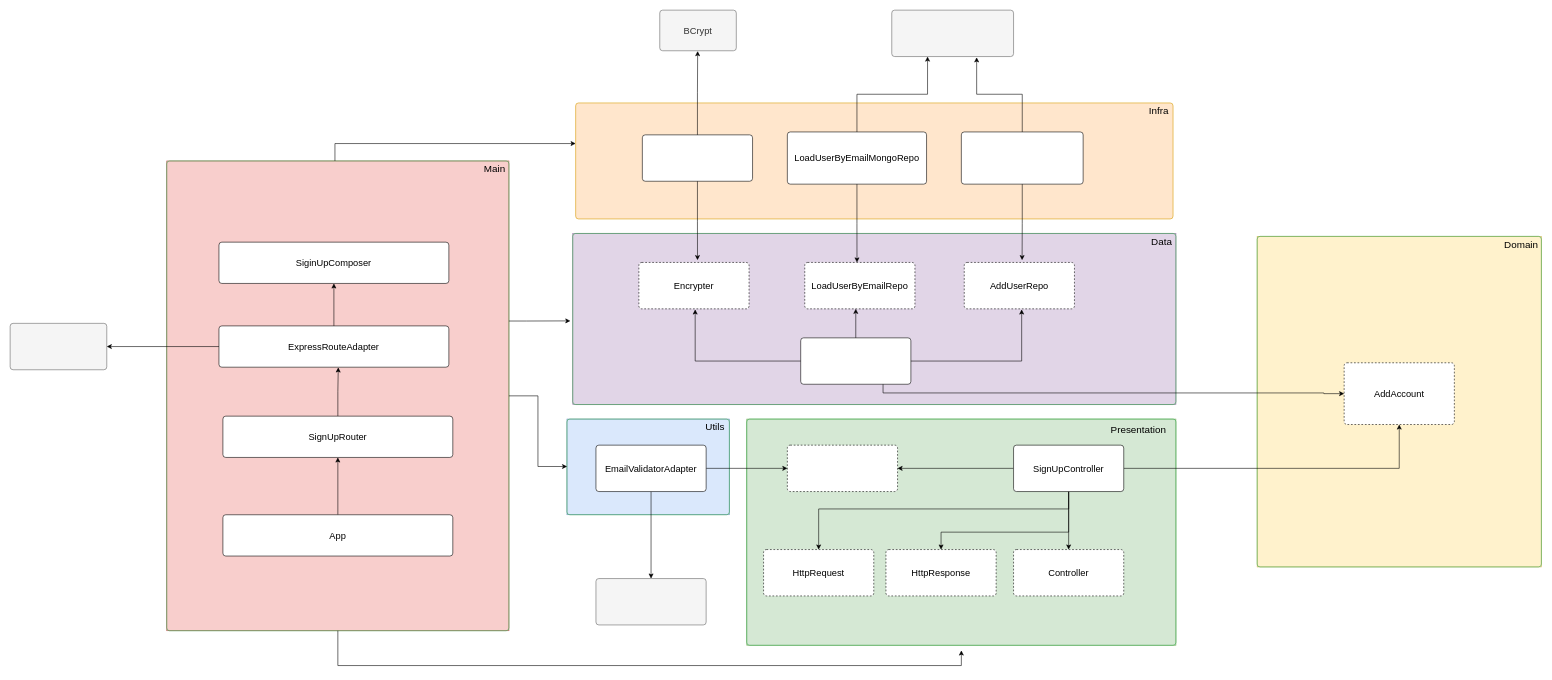
Some shapes in this 1552 by 680 pixel diagram are drawn without their labels. The shapes that lost their labels are listed below. From the top down, each one's centre as x and y in pixels, then its label:
At (x=952, y=33): "MongoDB".
At (x=697, y=157): "BcryptAdapter".
At (x=1022, y=157): "AddUserMongoRepository".
At (x=58, y=346): "Express".
At (x=855, y=360): "DbAddAcount".
At (x=842, y=468): "EmailValidator".
At (x=650, y=601): "Validator".
